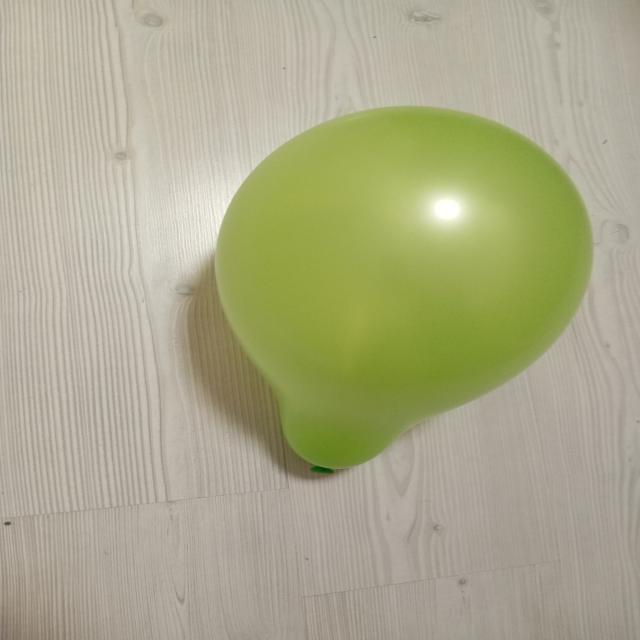balloon: (215, 106, 592, 471)
